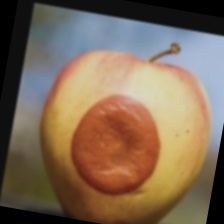apple: (2, 27, 195, 175)
